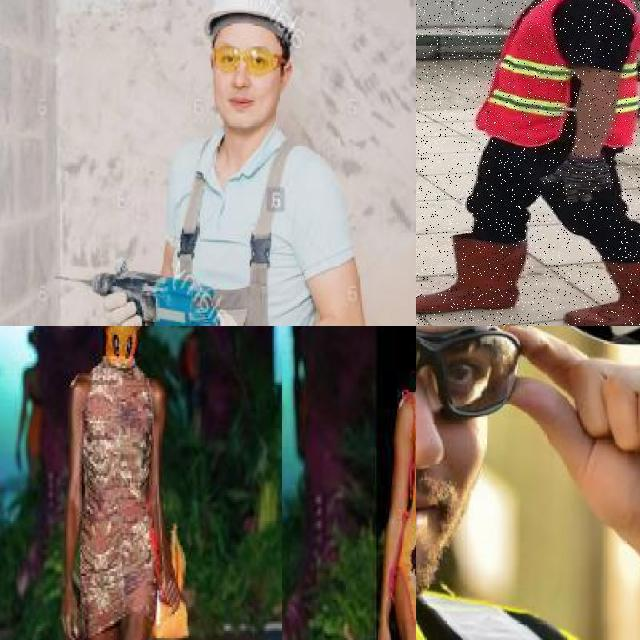boots: (416, 235, 524, 313), (566, 250, 640, 326)
face_mask: (102, 326, 139, 358)
face_nomask: (416, 326, 515, 569), (211, 46, 276, 116)
glasses: (416, 326, 522, 425), (212, 41, 292, 84)
hand_glove: (99, 287, 150, 326)
hand_noglove: (498, 326, 640, 570), (155, 558, 185, 618), (57, 587, 84, 640), (372, 627, 401, 640)
head_helmet: (201, 0, 305, 40)
person: (91, 0, 363, 326), (416, 0, 640, 326), (59, 326, 182, 640)
vest: (477, 0, 640, 150)
